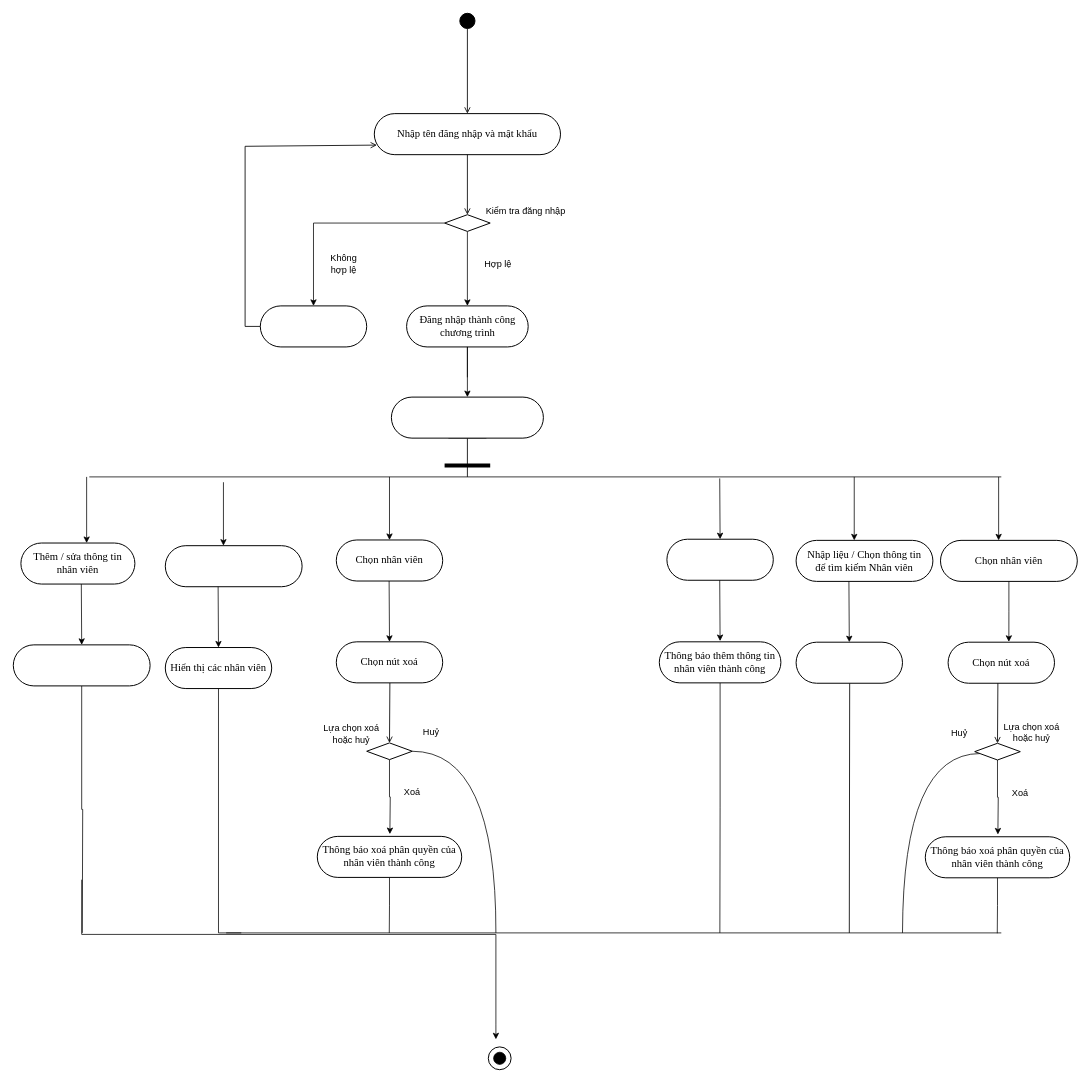
Image size: 1091x1084. Some labels were removed from this diagram. The shapes that lost their labels are listed below. From the top down, each one's box as (x1, y1, x2, y2) in pixels, then its label:
(259, 305, 367, 347): Thông báo nhập không chính xác
(391, 396, 544, 438): Vào trang 'Tài khoản'
(164, 545, 302, 587): Nhập liệu / Chọn thông tin tìm kiếm nhân viên
(666, 538, 773, 580): Thêm/ sửa thông tin nhân viên
(12, 644, 150, 686): Thông báo thêm / chỉnh sửa thành công
(795, 641, 903, 683): Hiển thị thông tin của nhân viên
